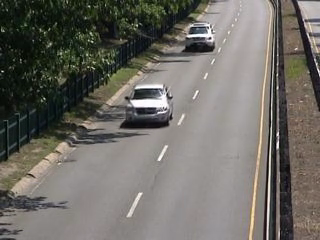car: (119, 81, 184, 131), (181, 18, 220, 54)
